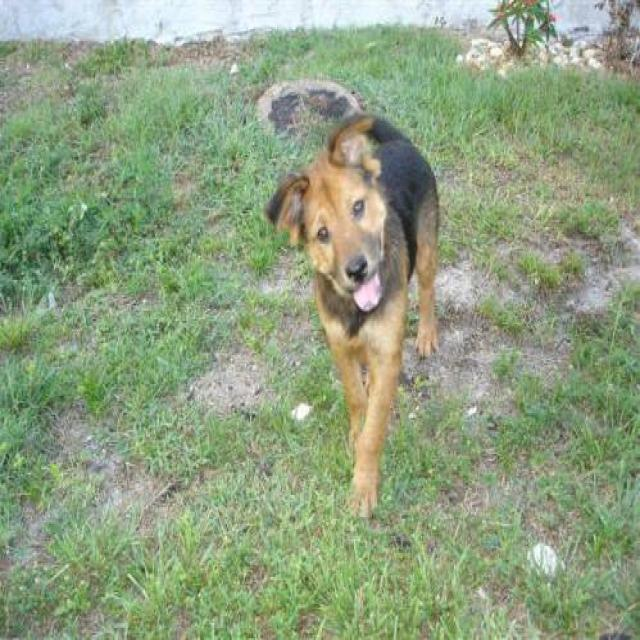dog: (264, 109, 441, 521)
